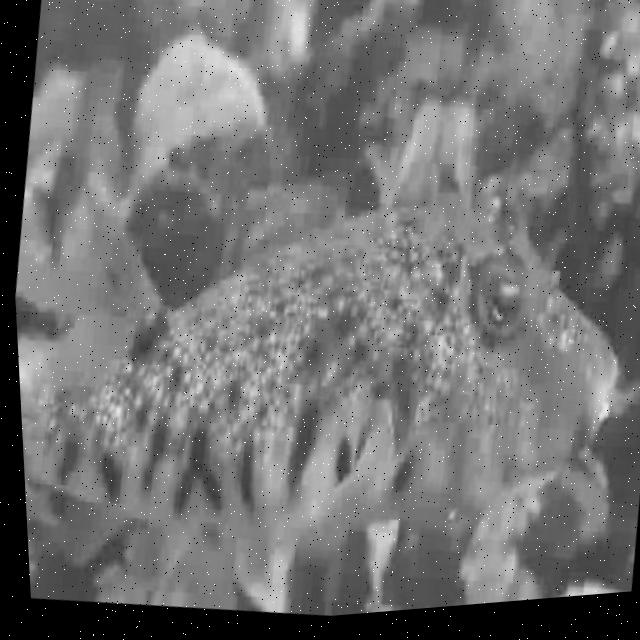Oyster-Closed: (437, 102, 477, 201)
Oyster-Indeterminate: (567, 0, 640, 313), (129, 44, 265, 195), (300, 0, 423, 165), (219, 181, 342, 278), (529, 445, 613, 567), (396, 100, 443, 202)
Oyster-Open: (16, 138, 101, 311)
